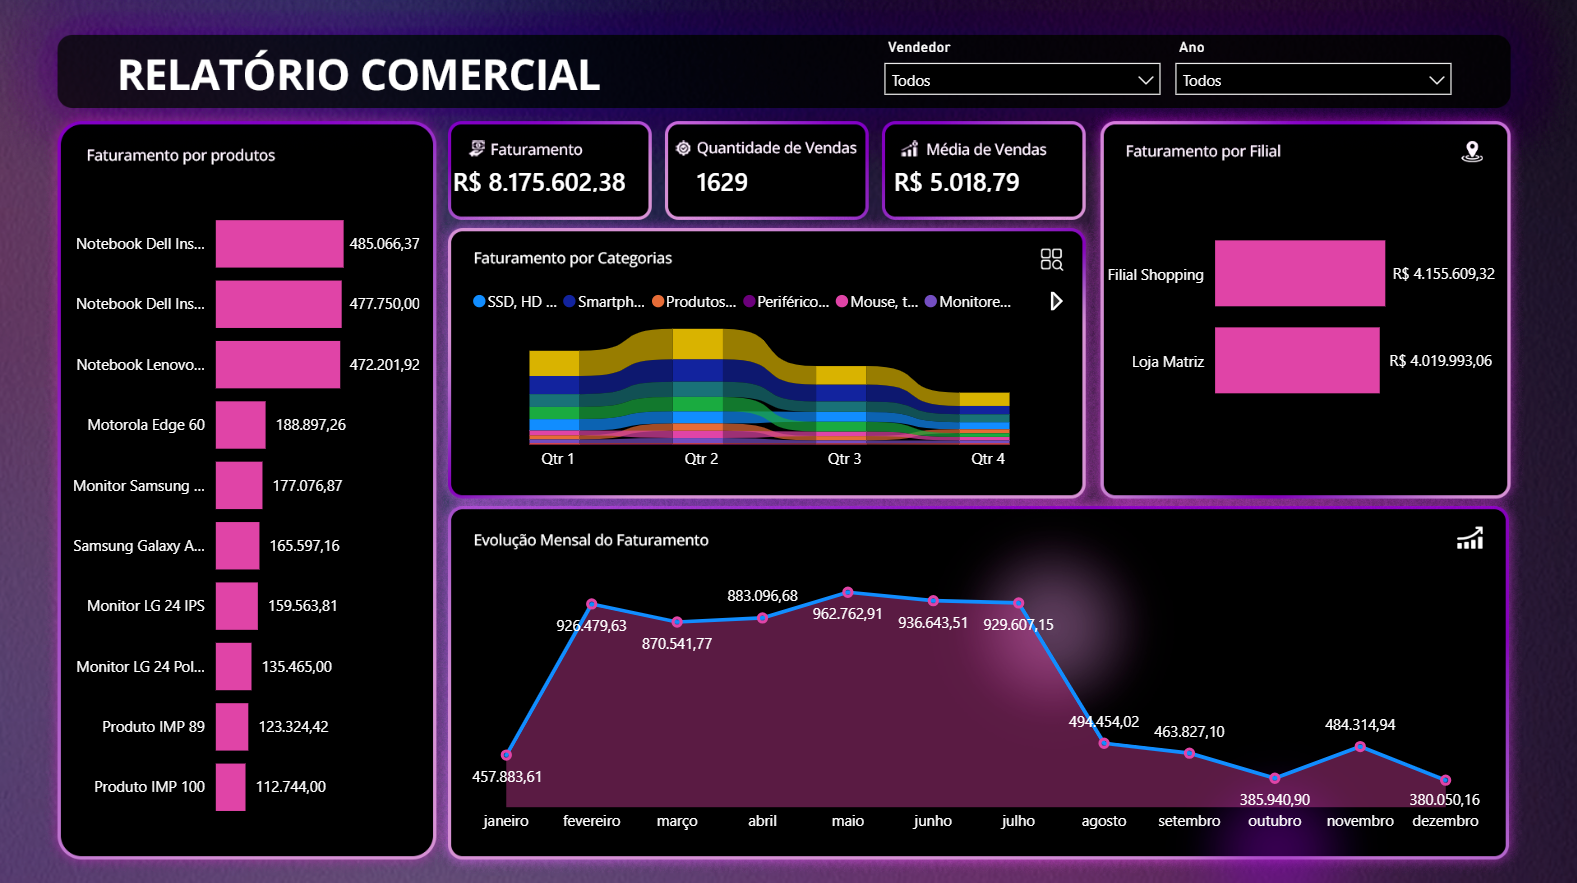

What the dashboard file says about the page in this screenshot:
{"tool":"powerbi","page":{"name":"Página 1","canvas":[1280,720],"ordinal":0},"visuals":[{"type":"cardVisual","fields":{"Data":["com Pedido.Faturamento"]},"box":[338.5,118.7,208.1,55.4],"z":0},{"type":"cardVisual","fields":{"Data":["com Pedido.Ticket Medio"]},"box":[695.4,118.7,180.9,55.4],"z":1000},{"type":"cardVisual","fields":{"Data":["com Pedido.QtdVendas"]},"box":[535.9,118.7,159.5,55.4],"z":2000},{"type":"clusteredBarChart","fields":{"Category":["cad Produto.NomeProduto"],"Y":["com ItemPedido.FaturamentoProduto"]},"box":[42.8,146.9,302.5,536.9],"z":3000},{"type":"clusteredBarChart","fields":{"Category":["cad Loja.NomeFantasia"],"Y":["com Pedido.Faturamento"]},"box":[886,119,331,272],"z":4000},{"type":"areaChart","fields":{"Category":["com Pedido.DataPedido.Variation.Hierarquia de datas.Mês"],"Y":["com Pedido.Faturamento"]},"box":[378,457,830,227],"z":5000},{"type":"ribbonChart","fields":{"Category":["com Pedido.DataPedido.Variation.Hierarquia de datas.Trimestre"],"Series":["cad Categoria.Descricao"],"Y":["com ItemPedido.FaturamentoProduto"]},"box":[378,225,498,166],"z":6000}]}

Visuals, with their boxes in screenshot pixels (x1, y1, x2, y2), scaled from the page's 1280x720 canvas onto the 1577x883 screenshot:
cardVisual - com Pedido.Faturamento: left=417, top=146, right=673, bottom=214
cardVisual - com Pedido.Ticket Medio: left=857, top=146, right=1080, bottom=214
cardVisual - com Pedido.QtdVendas: left=660, top=146, right=857, bottom=214
clusteredBarChart - cad Produto.NomeProduto x com ItemPedido.FaturamentoProduto: left=53, top=180, right=425, bottom=839
clusteredBarChart - cad Loja.NomeFantasia x com Pedido.Faturamento: left=1092, top=146, right=1499, bottom=480
areaChart - com Pedido.DataPedido.Variation.Hierarquia de datas.Mês x com Pedido.Faturamento: left=466, top=560, right=1488, bottom=839
ribbonChart - com Pedido.DataPedido.Variation.Hierarquia de datas.Trimestre x cad Categoria.Descricao: left=466, top=276, right=1079, bottom=480
